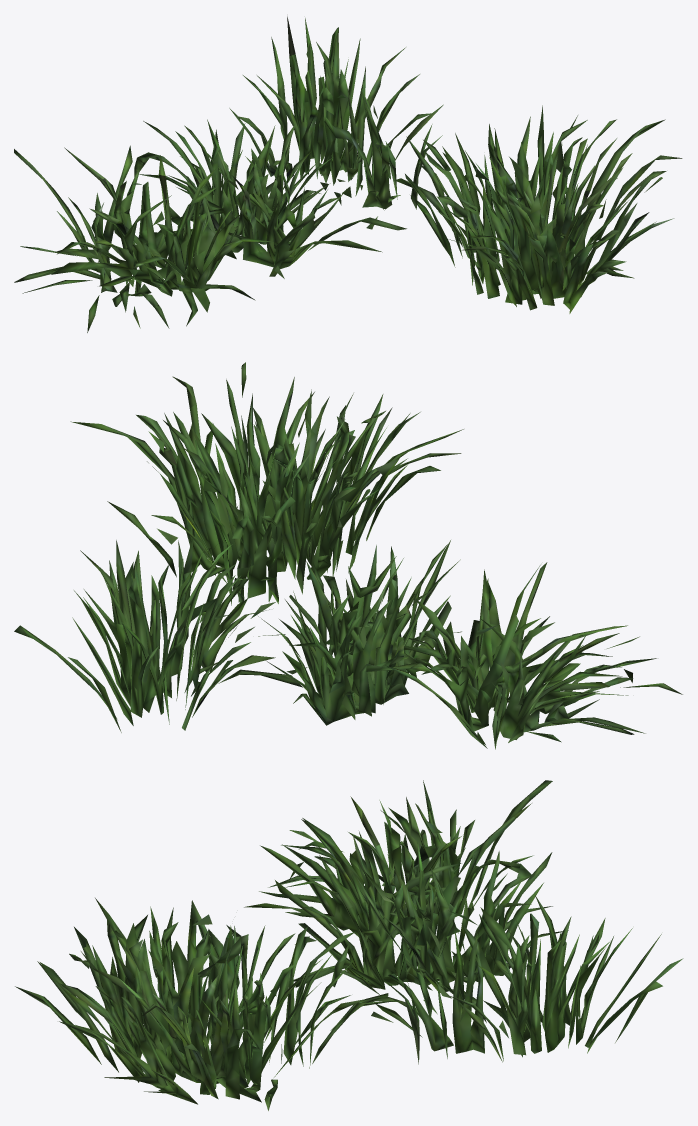
The model's file is grass-cluster.glb.
The picture shows the model from 3 angles, top to bottom: view 1: azimuth 30°, elevation 25°; view 2: azimuth 150°, elevation 25°; view 3: azimuth 270°, elevation 25°; orthographic projection. The views are drawn at different scales.
Visible parts, largest first — view 1: grass-cluster; view 2: grass-cluster; view 3: grass-cluster.
Boxes of the visible parts, x1,y1,x2,y2 form: grass-cluster: [14, 16, 682, 332]; grass-cluster: [14, 362, 682, 749]; grass-cluster: [15, 780, 683, 1110].
Size of the model in its own units: 1.3 by 0.2861 by 1.21.
1 material, 1 textured.
